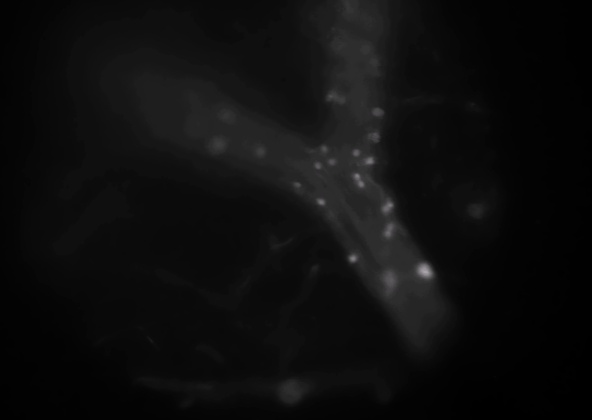cell: (419, 264, 433, 278), (370, 106, 384, 120), (350, 147, 364, 161), (364, 155, 378, 169), (317, 142, 331, 156), (310, 159, 324, 173), (324, 155, 338, 169), (325, 88, 339, 102), (350, 169, 364, 183), (332, 92, 346, 106), (355, 178, 369, 192), (345, 253, 359, 267), (382, 271, 396, 285), (380, 227, 394, 241), (383, 198, 397, 212), (386, 220, 400, 234), (381, 202, 395, 216), (314, 196, 328, 210), (290, 176, 304, 190), (254, 145, 268, 159), (209, 138, 223, 152), (358, 43, 372, 57), (367, 54, 381, 68), (331, 40, 345, 54), (368, 130, 382, 144), (368, 129, 382, 143)
